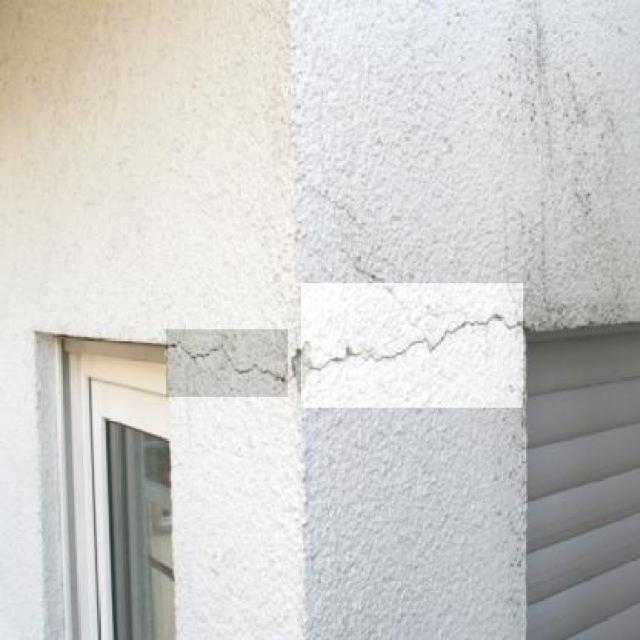Crack: (306, 311, 522, 382), (170, 337, 290, 395)
